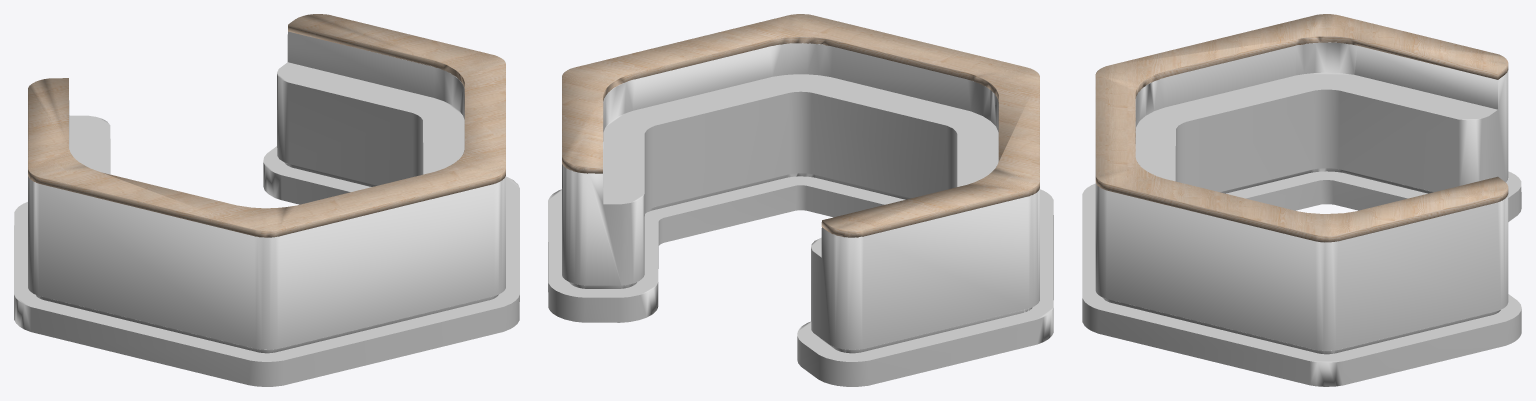
File: matesu_lobby_frontdesk.fbx
The picture shows the model from 3 angles, left to right: view 1: azimuth 30°, elevation 25°; view 2: azimuth 150°, elevation 25°; view 3: azimuth 270°, elevation 25°; orthographic projection. The views are drawn at different scales.
Visible parts, largest first — view 1: Group#34 [23620].001; view 2: Group#34 [23620].001; view 3: Group#34 [23620].001.
Boxes of the visible parts, x1=… form: Group#34 [23620].001: x1=14, y1=14, x2=519, y2=386; Group#34 [23620].001: x1=548, y1=14, x2=1053, y2=386; Group#34 [23620].001: x1=1082, y1=14, x2=1521, y2=386.
Size of the model in its own units: 414 by 120 by 329.
Materials: 2 (1 with a texture image).
